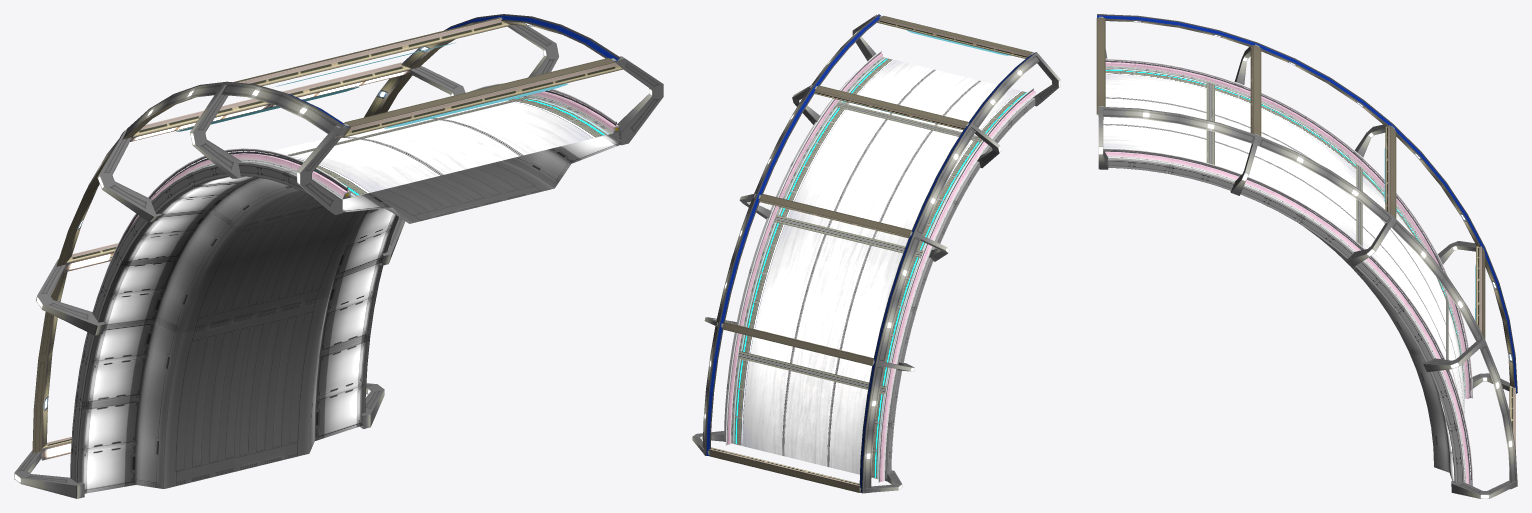
File: T42 - Magnetic.fbx
The picture shows the model from 3 angles, left to right: view 1: azimuth 30°, elevation 25°; view 2: azimuth 150°, elevation 25°; view 3: azimuth 270°, elevation 25°; orthographic projection. The views are drawn at different scales.
Parts seen in each view (by area): view 1: standard_bridge4, mag_cage5, straight_road19, wall5, light_bloom_night, magnetic_road_lines; view 2: straight_road19, mag_cage5, magnetic_road_lines, wall5, standard_bridge4; view 3: straight_road19, mag_cage5, wall5, standard_bridge4, magnetic_road_lines.
Part boxes in pixels (x1=…): standard_bridge4: x1=70, y1=97, x2=621, y2=493; mag_cage5: x1=14, y1=14, x2=663, y2=498; straight_road19: x1=264, y1=96, x2=613, y2=197; wall5: x1=100, y1=83, x2=621, y2=288; light_bloom_night: x1=110, y1=42, x2=567, y2=257; magnetic_road_lines: x1=287, y1=101, x2=523, y2=175; straight_road19: x1=731, y1=57, x2=1026, y2=478; mag_cage5: x1=692, y1=14, x2=1060, y2=493; magnetic_road_lines: x1=749, y1=69, x2=980, y2=466; wall5: x1=725, y1=50, x2=1036, y2=482; standard_bridge4: x1=724, y1=69, x2=1035, y2=481; straight_road19: x1=1103, y1=67, x2=1464, y2=415; mag_cage5: x1=1096, y1=14, x2=1517, y2=498; wall5: x1=1103, y1=58, x2=1472, y2=485; standard_bridge4: x1=1108, y1=67, x2=1464, y2=482; magnetic_road_lines: x1=1103, y1=88, x2=1464, y2=425.
Bounding box in the file's own units: 5641 × 8392 × 8429.
